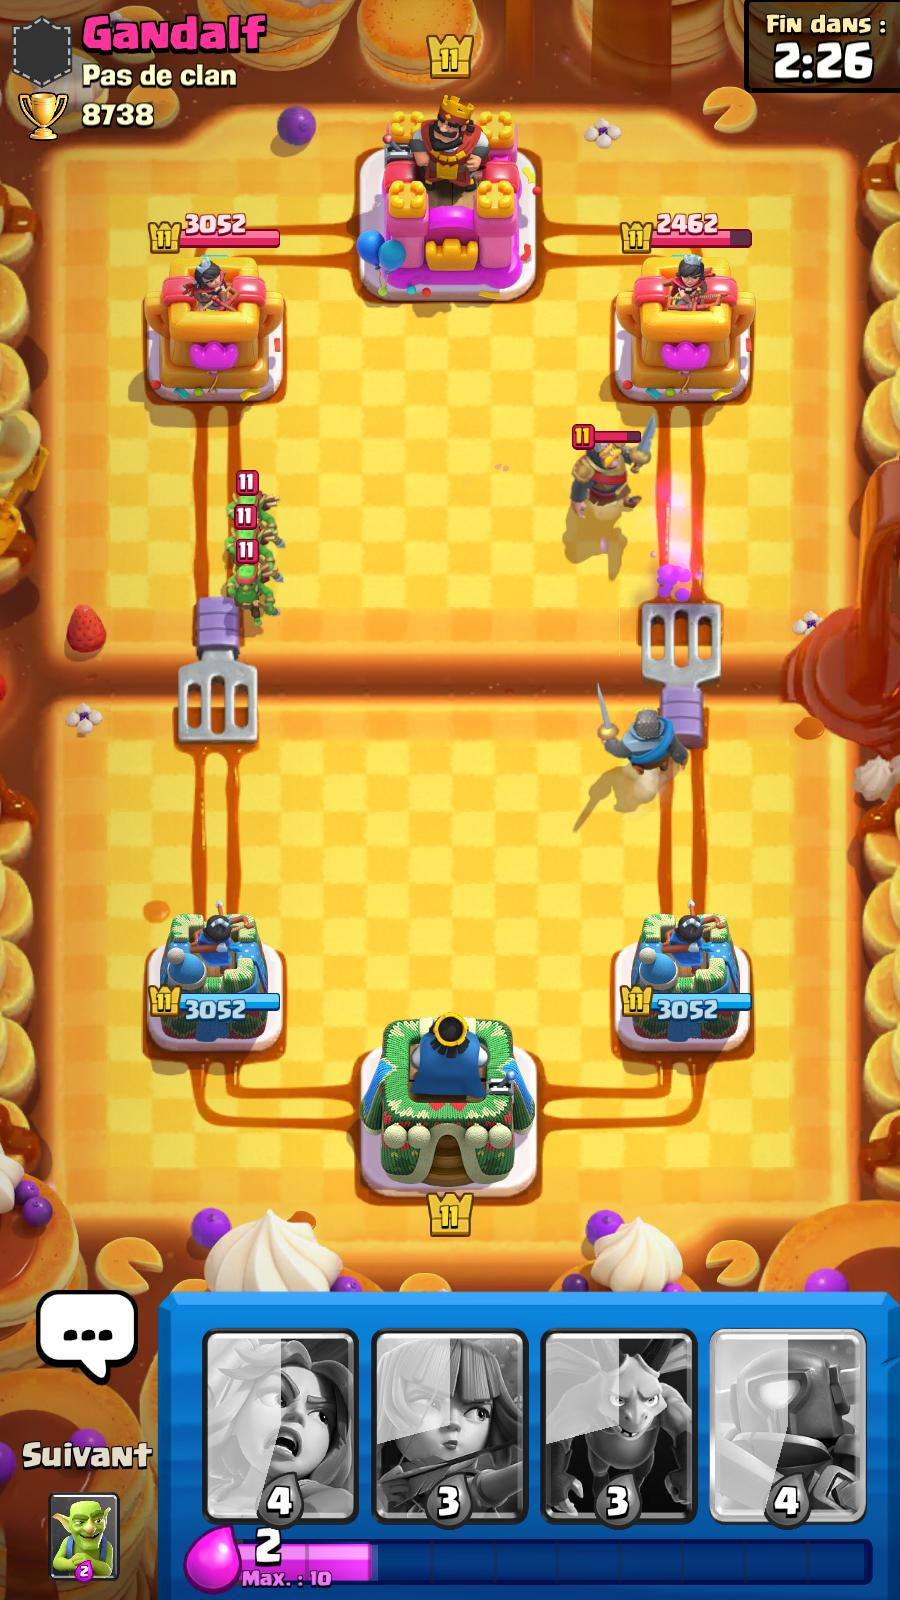chevalier: (571, 690, 699, 801), (563, 413, 658, 526)
gobelin: (207, 470, 290, 537), (216, 558, 289, 635), (223, 516, 282, 579)
